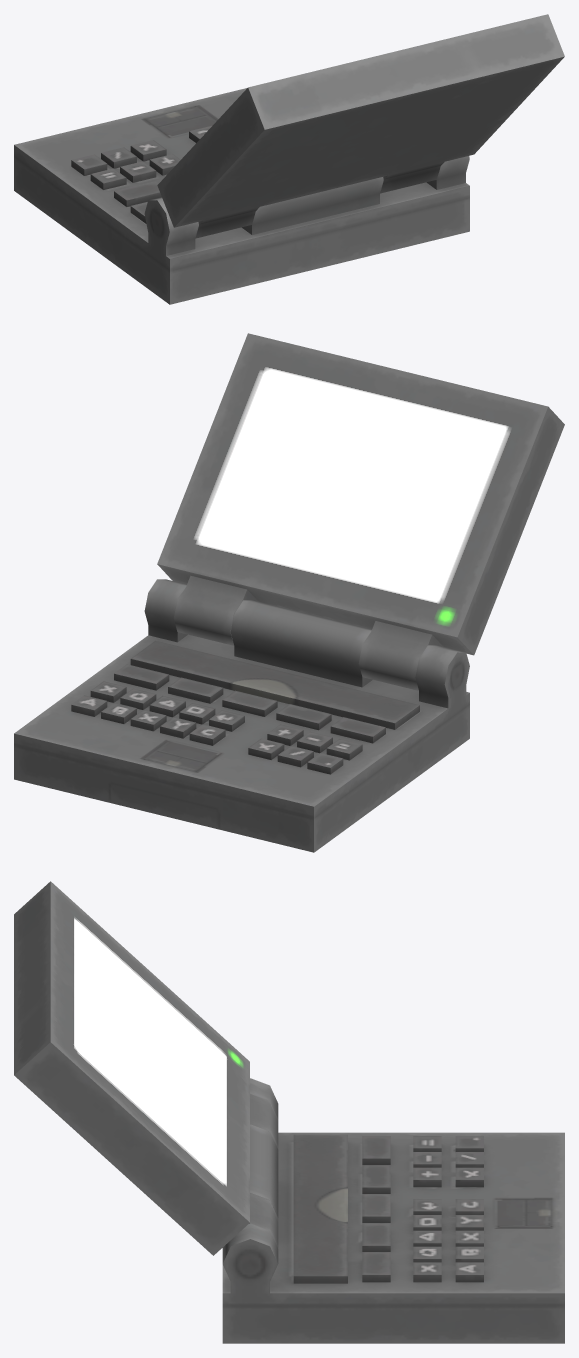
The model's file is Pfb_Computer__5.fbx.
3 renders of one model, top to bottom at view 1: azimuth 30°, elevation 25°; view 2: azimuth 150°, elevation 25°; view 3: azimuth 270°, elevation 25°, orthographic. The views are drawn at different scales.
Visible parts, largest first — view 1: Mat_Computer_01_01 _2; view 2: Mat_Computer_01_01 _2; view 3: Mat_Computer_01_01 _2.
Part boxes in pixels (box(x1,y1,x2,y2)): Mat_Computer_01_01 _2: box(14, 14, 564, 304); Mat_Computer_01_01 _2: box(14, 333, 564, 852); Mat_Computer_01_01 _2: box(14, 881, 564, 1343).
Bounding box in the file's own units: 0.4671 × 0.4084 × 0.6758.
Materials: 1 (1 with a texture image).
